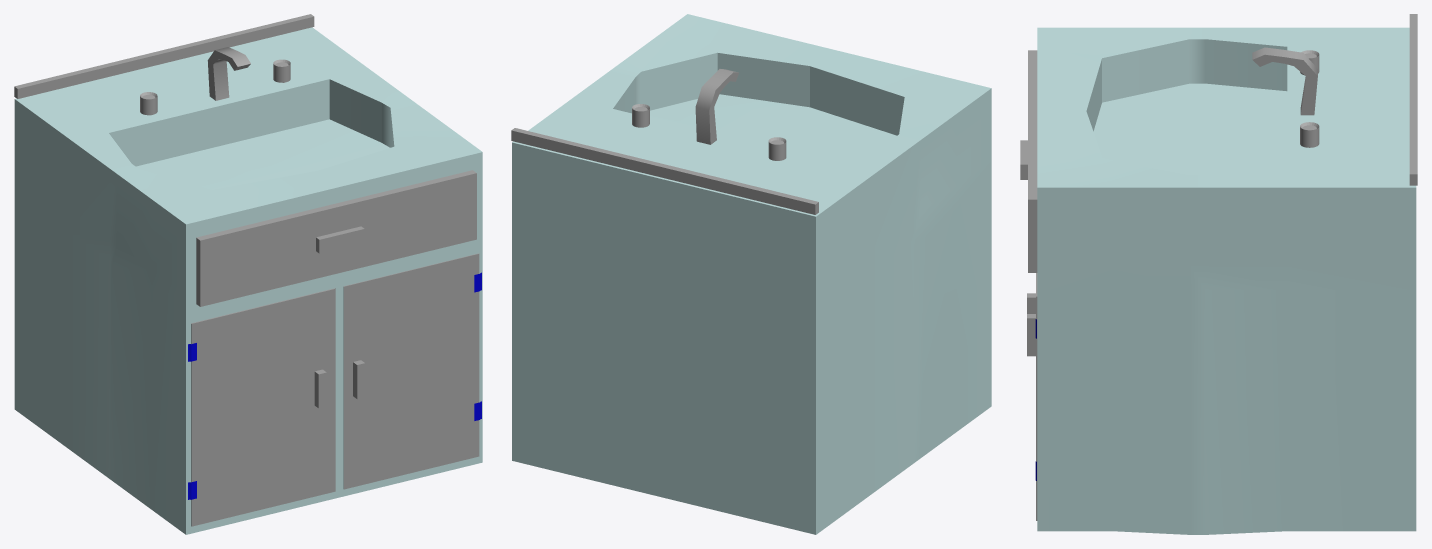
Rendered from pileta.fbx.
3 renders of one model, left to right at view 1: azimuth 30°, elevation 25°; view 2: azimuth 150°, elevation 25°; view 3: azimuth 270°, elevation 25°, orthographic. The views are drawn at different scales.
Parts seen in each view (by area): view 1: pCube1, pCube2, pCube3, pCube8, pCube7, pCube6, pCube9; view 2: pCube1, pCube7, pCube6; view 3: pCube1, pCube8, pCube6, pCube7, pCylinder5.
Part boxes in pixels (left/top/right/bottom): pCube1: left=14, top=27, right=482, bottom=534; pCube2: left=191, top=288, right=335, bottom=526; pCube3: left=343, top=253, right=479, bottom=489; pCube8: left=196, top=170, right=476, bottom=306; pCube7: left=14, top=14, right=314, bottom=98; pCube6: left=207, top=47, right=250, bottom=100; pCube9: left=316, top=226, right=364, bottom=253; pCube1: left=512, top=14, right=991, bottom=534; pCube7: left=511, top=128, right=818, bottom=214; pCube6: left=695, top=69, right=738, bottom=144; pCube1: left=1037, top=27, right=1416, bottom=534; pCube8: left=1028, top=50, right=1037, bottom=272; pCube6: left=1252, top=47, right=1317, bottom=115; pCube7: left=1409, top=14, right=1417, bottom=185; pCylinder5: left=1300, top=122, right=1319, bottom=147.
Size of the model in its own units: 1.04 by 1.18 by 1.05.
